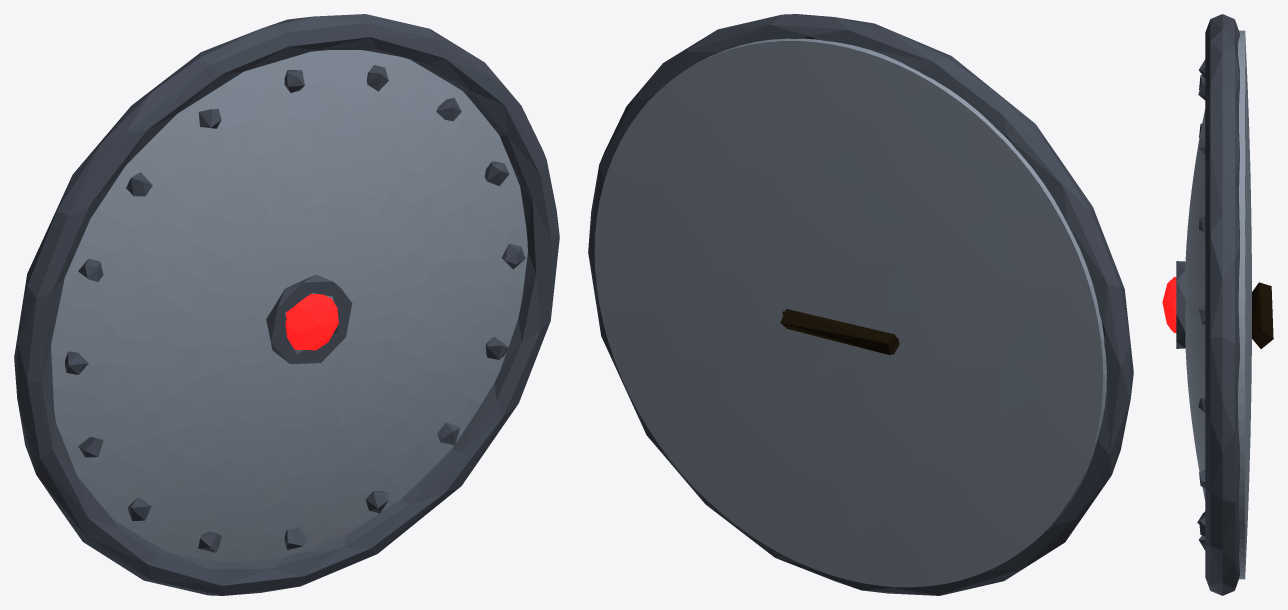
The model's file is shield_1.glb.
The picture shows the model from 3 angles, left to right: view 1: azimuth 30°, elevation 25°; view 2: azimuth 150°, elevation 25°; view 3: azimuth 270°, elevation 25°; orthographic projection. The views are drawn at different scales.
Parts seen in each view (by area): view 1: part_01, part_02, part_20, part_19; view 2: part_01, part_02, part_21; view 3: part_02, part_01, part_21, part_20, part_19.
Part boxes in pixels (box(x1,y1,x2,y2)): part_01: box(51, 50, 527, 562); part_02: box(14, 14, 559, 595); part_20: box(266, 274, 352, 363); part_19: box(285, 293, 338, 350); part_01: box(594, 38, 1106, 587); part_02: box(588, 14, 1133, 595); part_21: box(780, 309, 898, 354); part_02: box(1205, 14, 1239, 595); part_01: box(1185, 30, 1251, 579); part_21: box(1252, 282, 1273, 348); part_20: box(1176, 261, 1185, 348); part_19: box(1162, 276, 1176, 333).
Bounding box in the file's own units: 1.01 × 1.01 × 0.1925.
